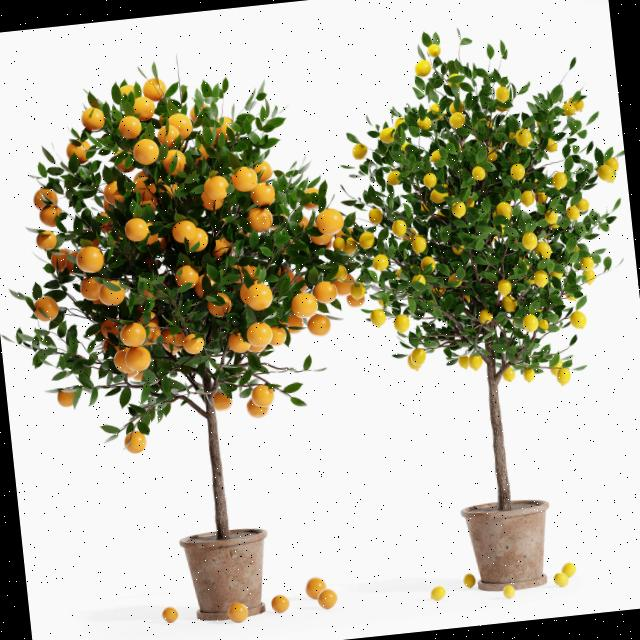orange: (171, 218, 207, 252), (200, 174, 232, 210), (240, 282, 276, 312), (289, 290, 320, 322), (118, 346, 152, 374), (314, 208, 346, 236), (247, 380, 276, 410), (122, 426, 150, 456), (76, 245, 106, 272), (52, 383, 82, 410), (290, 291, 318, 319), (100, 278, 128, 306), (310, 586, 340, 612), (247, 320, 274, 348), (122, 216, 150, 242), (232, 166, 260, 192), (224, 598, 250, 626), (247, 204, 274, 230), (133, 138, 160, 164), (120, 322, 148, 347), (168, 113, 193, 141), (176, 263, 202, 289), (118, 114, 143, 141), (132, 95, 157, 122), (206, 294, 234, 318), (80, 106, 108, 130), (140, 76, 168, 100), (36, 296, 61, 321), (250, 183, 276, 207), (306, 313, 331, 337), (311, 282, 338, 304), (80, 275, 102, 302), (226, 328, 250, 351), (35, 229, 58, 250), (183, 333, 206, 353), (160, 605, 180, 625), (502, 294, 520, 312), (366, 208, 384, 225), (522, 314, 539, 332), (392, 220, 408, 237), (453, 202, 469, 219), (498, 280, 513, 296), (471, 166, 486, 182)
